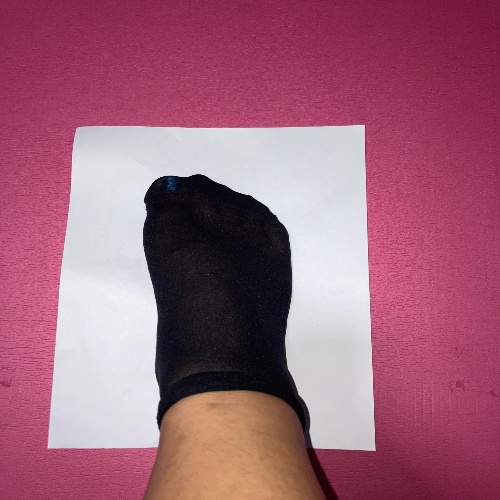Top_Foot: (39, 106, 409, 471)
